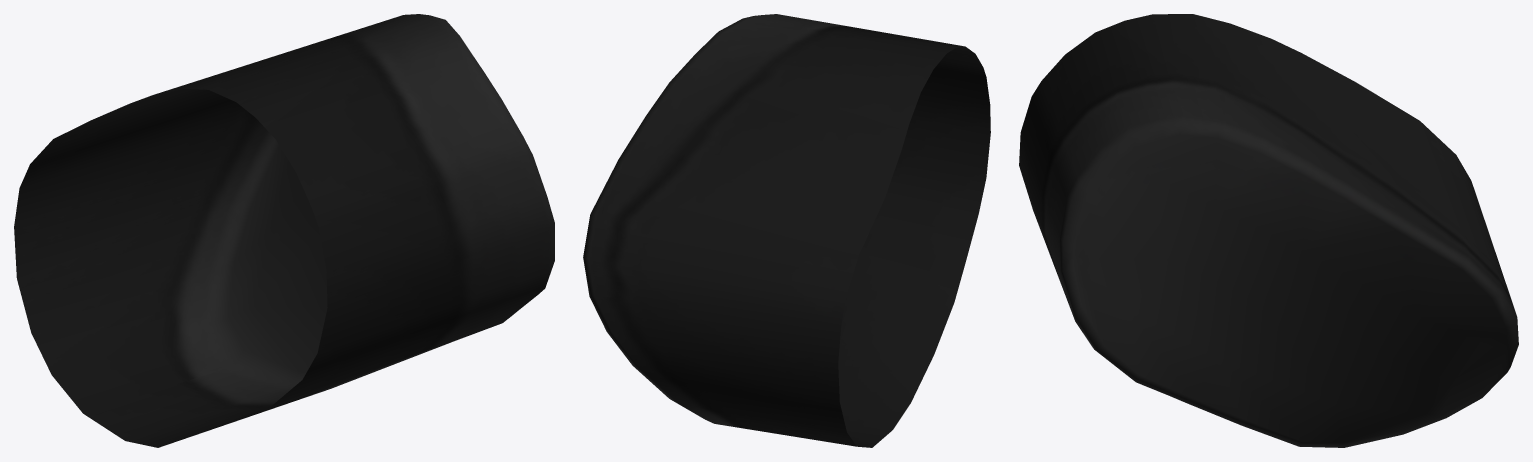
The model's file is LGrip.obj.
The picture shows the model from 3 angles, left to right: view 1: azimuth 30°, elevation 25°; view 2: azimuth 150°, elevation 25°; view 3: azimuth 270°, elevation 25°; orthographic projection. The views are drawn at different scales.
Visible parts, largest first — view 1: P_Controller_L:LGrip; view 2: P_Controller_L:LGrip; view 3: P_Controller_L:LGrip.
Boxes of the visible parts, x1=… form: P_Controller_L:LGrip: x1=14, y1=14, x2=554, y2=447; P_Controller_L:LGrip: x1=583, y1=14, x2=990, y2=447; P_Controller_L:LGrip: x1=1019, y1=14, x2=1518, y2=447.
Bounding box in the file's own units: 0.016 × 0.0189 × 0.0234.
1 material, 1 textured.
